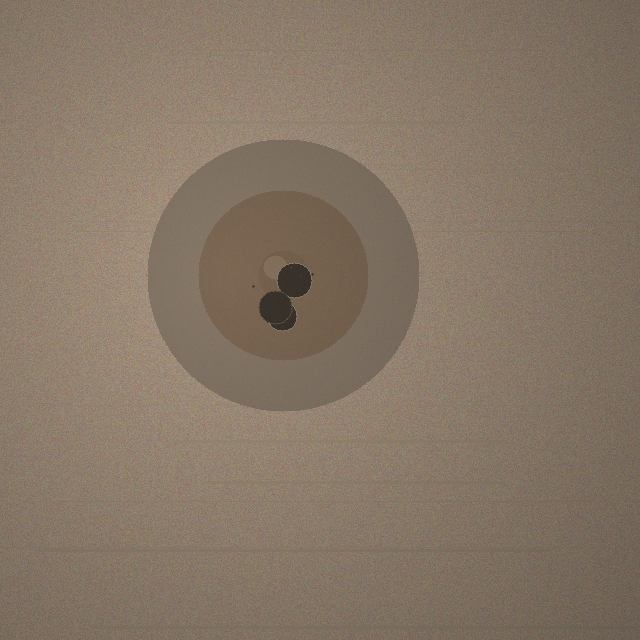shrinkage: (147, 139, 419, 411)
